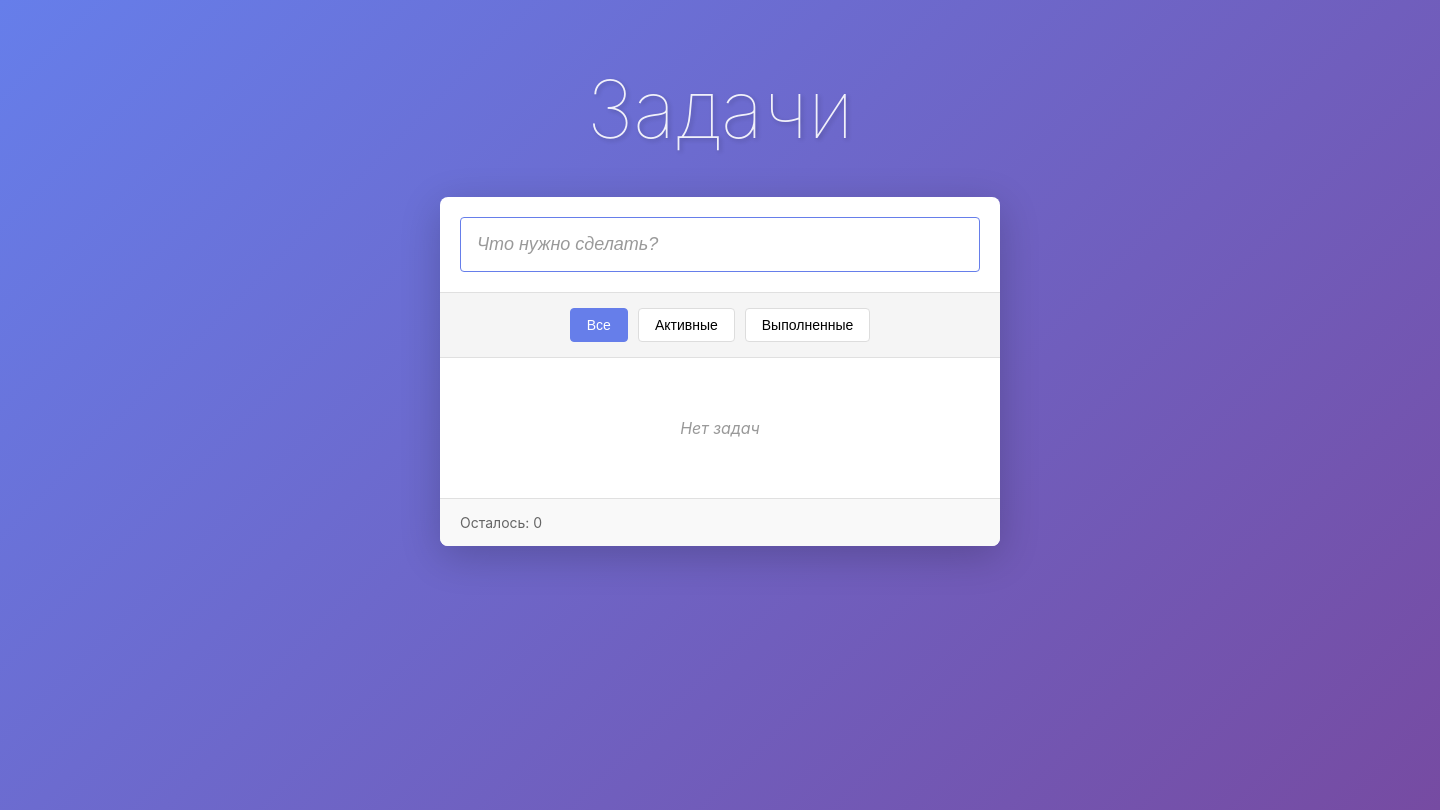
Тесты приложения › показывает количество активных задач
This screenshot has width=1440, height=810.
Expected: the text "Осталось: 0" is shown, [460,514,542,531]
Type "Задача 1" into the field with placeholder "Что нужно сделать?" at (720, 244), box [460,217,980,272]
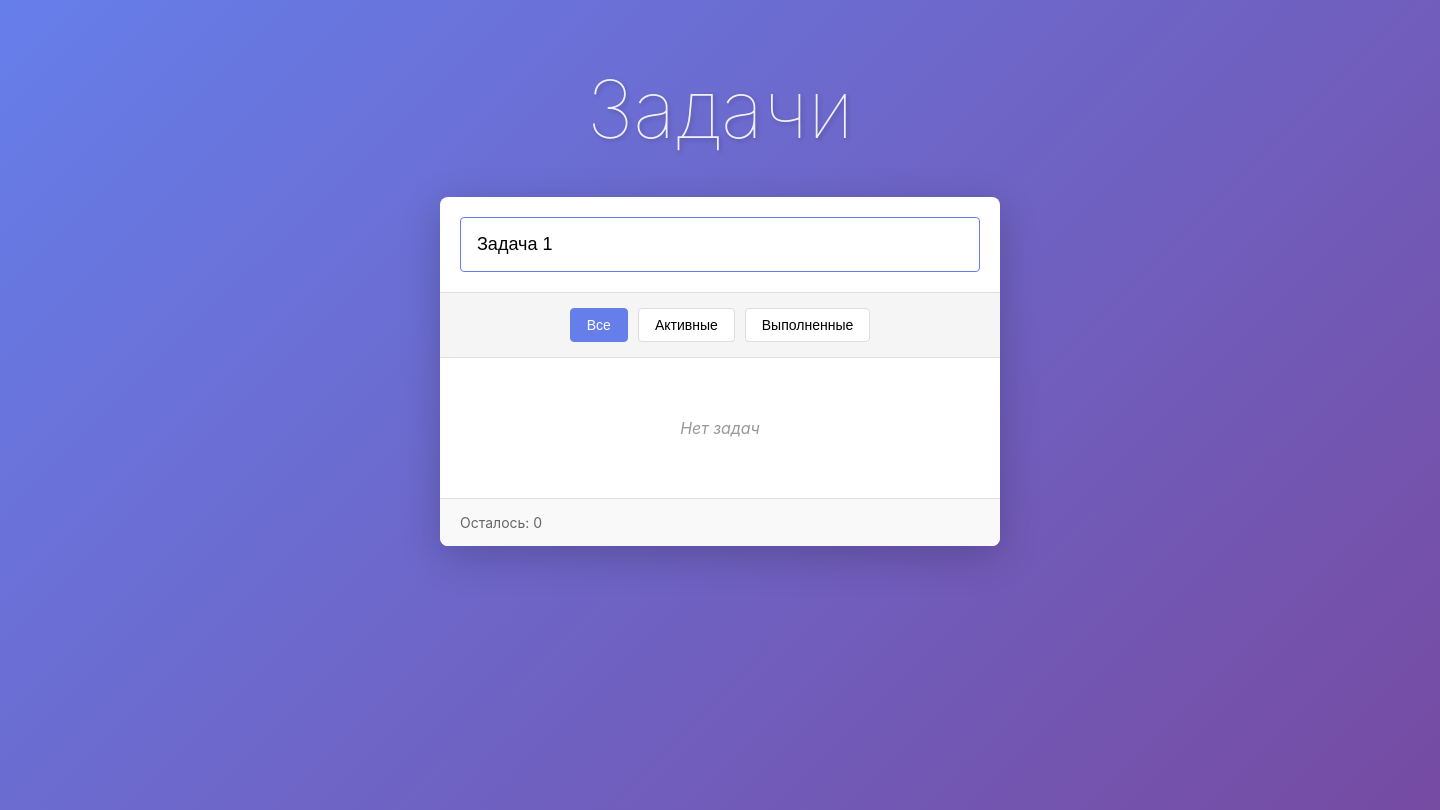
Press Enter in the field with placeholder "Что нужно сделать?", box [460,217,980,272]
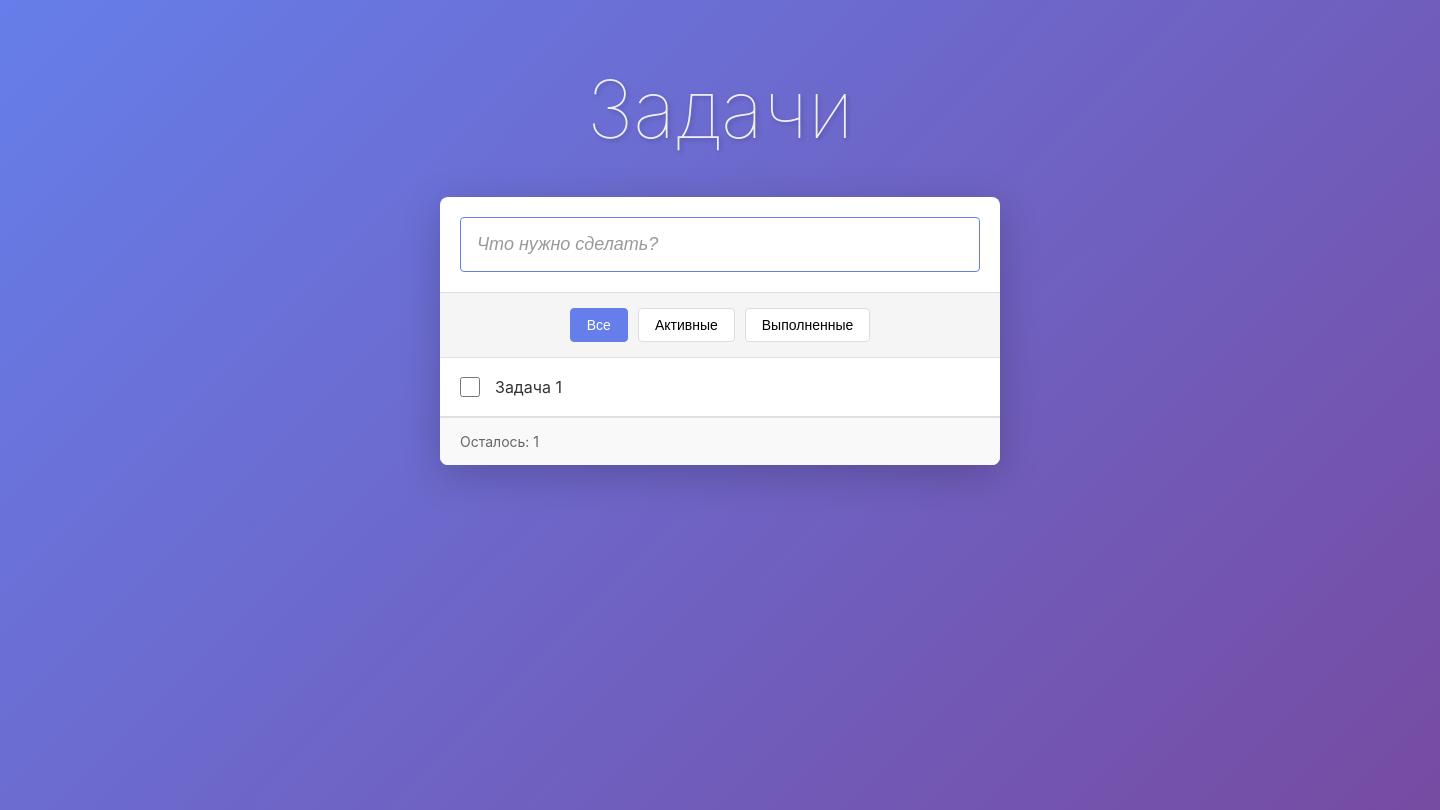
Expected: the text "Осталось: 1" is shown, [460,433,539,450]
Type "Задача 2" into the field with placeholder "Что нужно сделать?" at (720, 244), box [460,217,980,272]
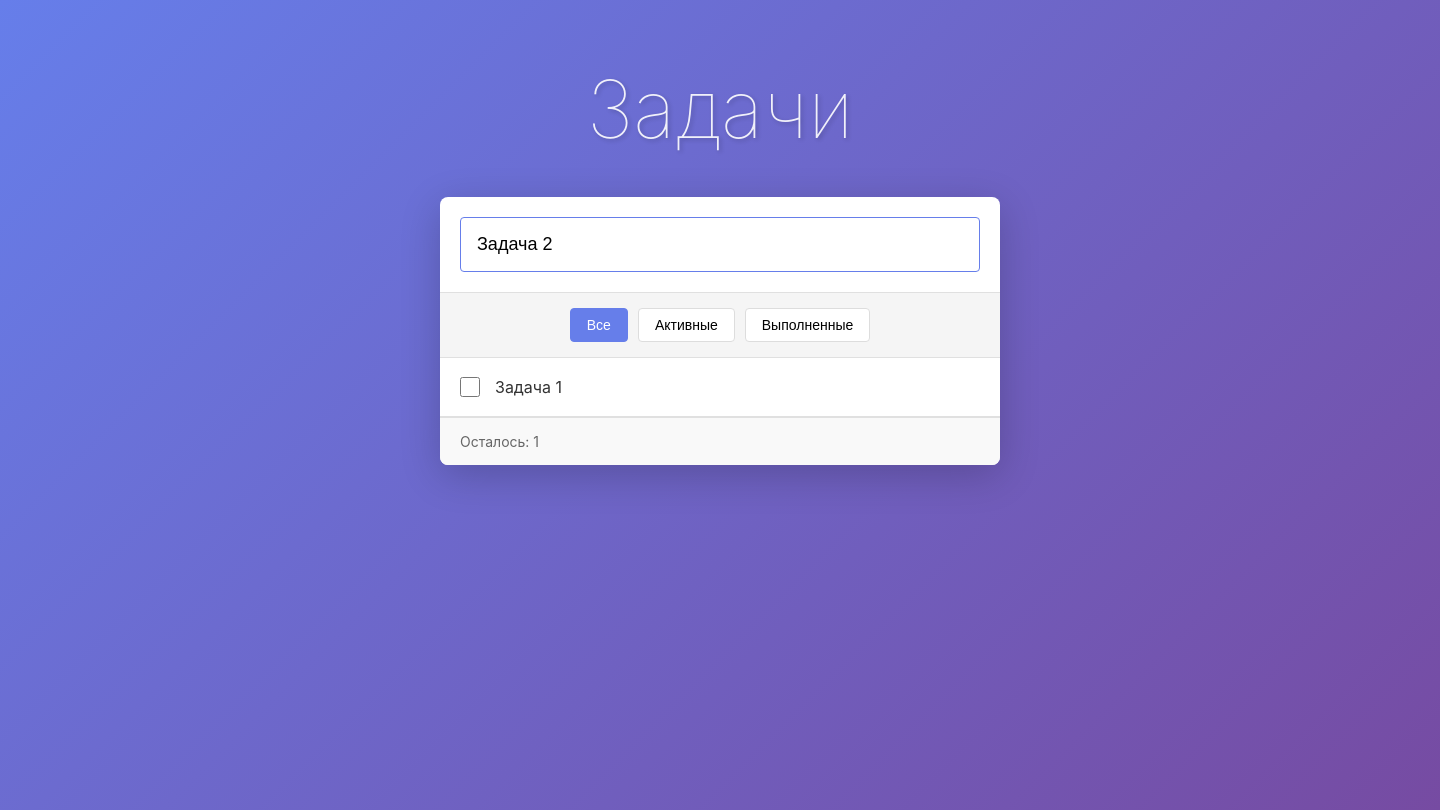
Press Enter in the field with placeholder "Что нужно сделать?", box [460,217,980,272]
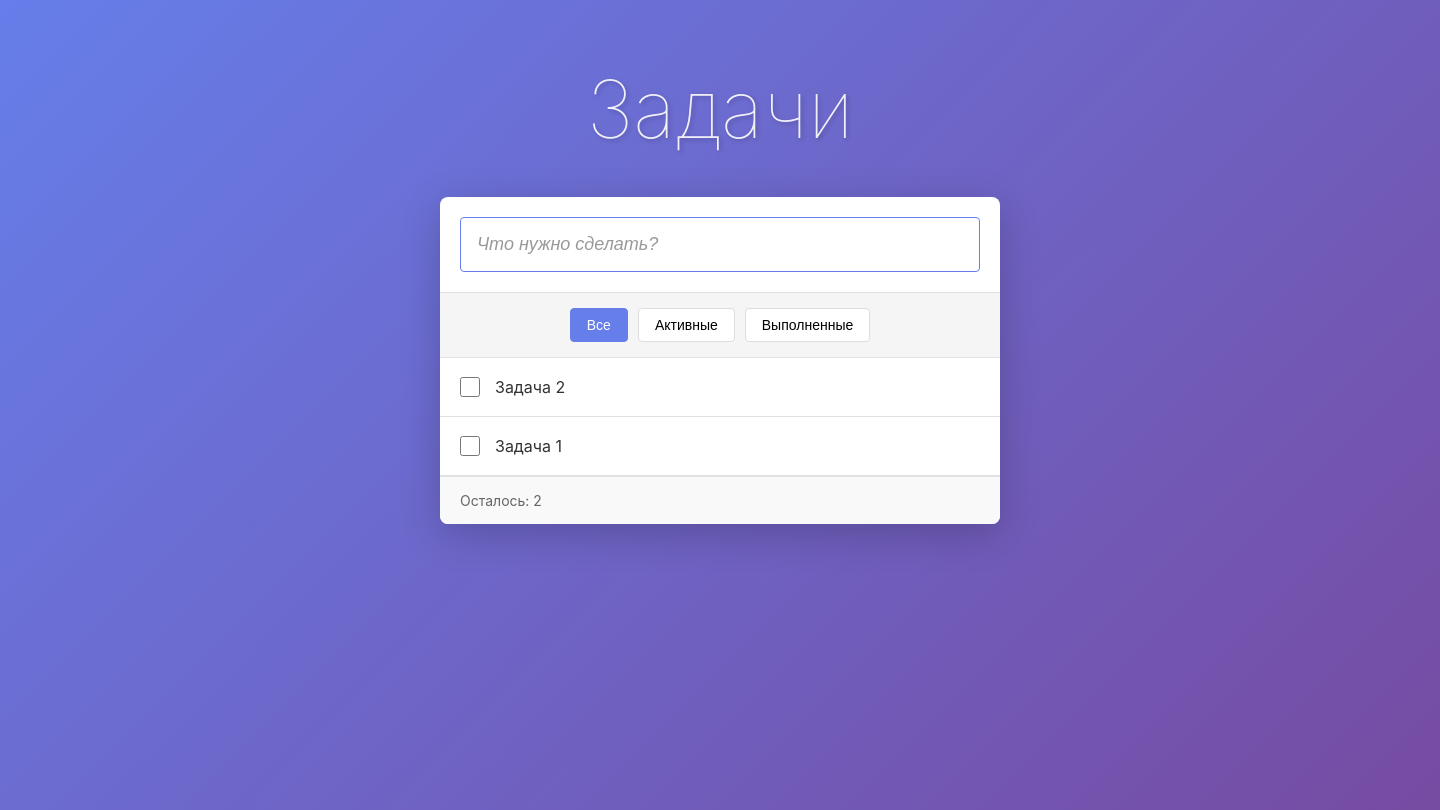
Expected: the text "Осталось: 2" is shown, [460,492,542,509]
Click the checkbox next to "Задача 2" at (470, 387), box [460,377,480,397]
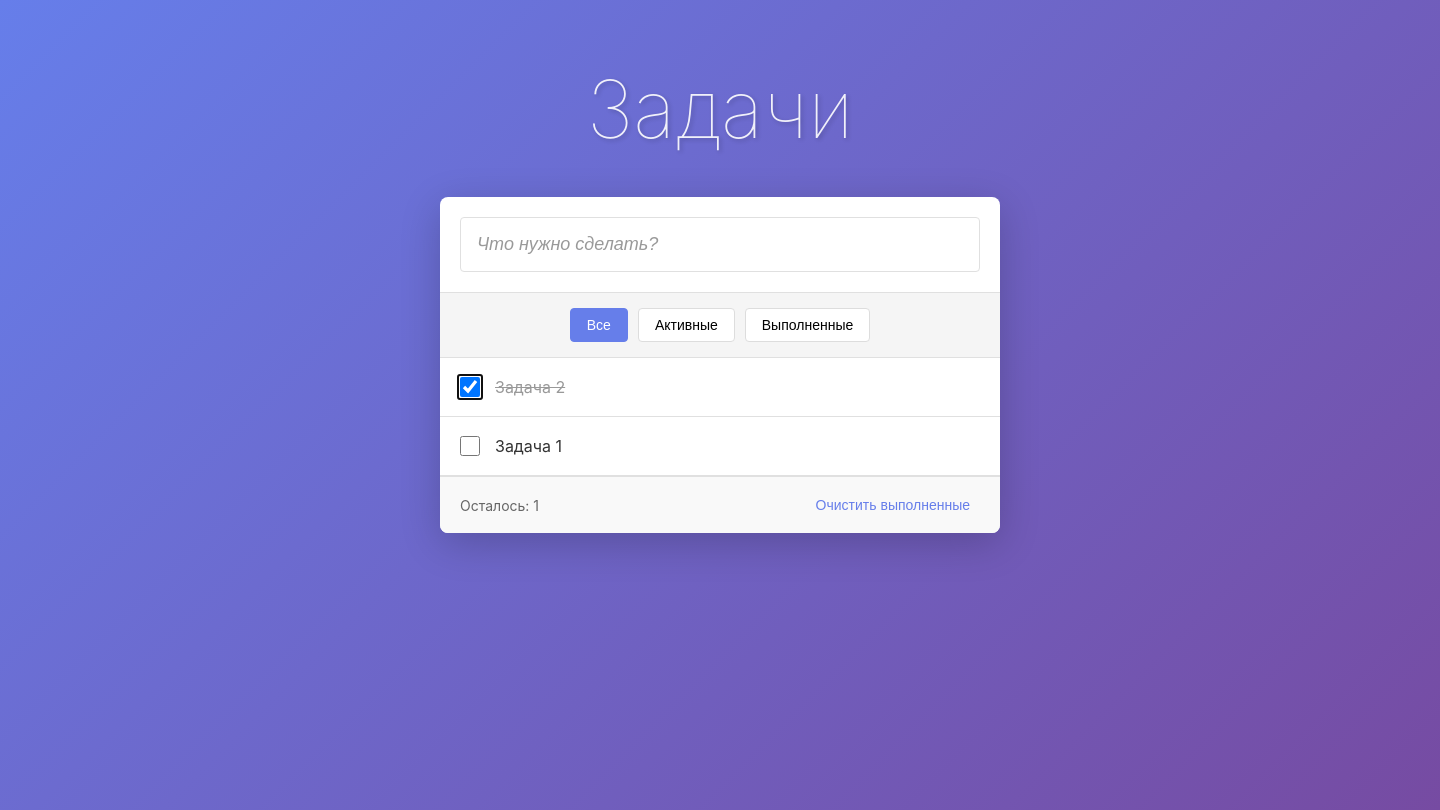
Expected: the text "Осталось: 1" is shown, [460,496,539,514]
